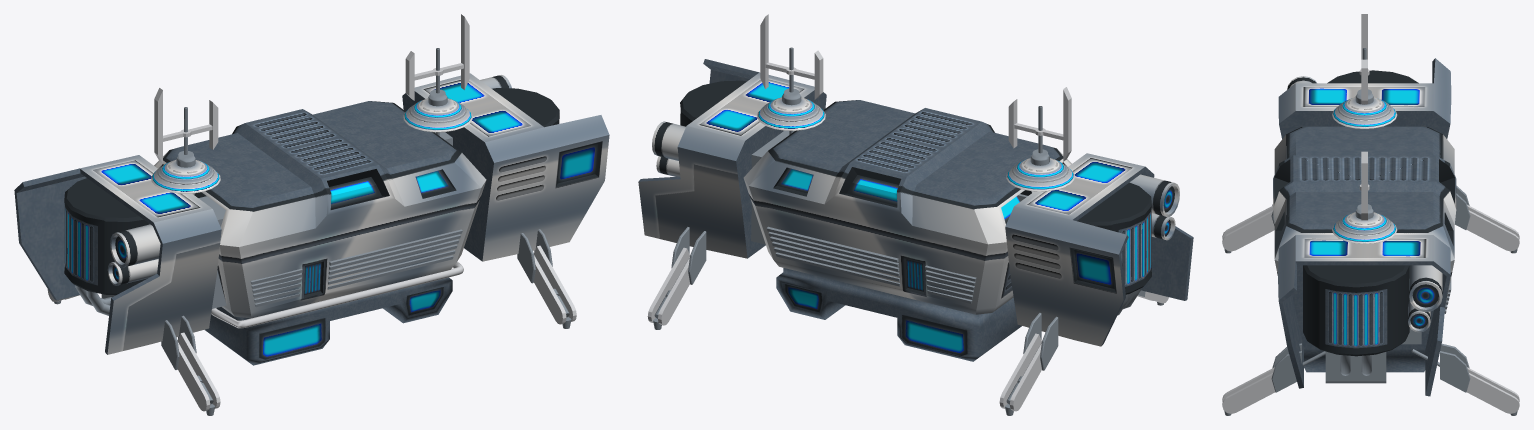
File: Transfer_Satellite2.fbx
3 views of the same model, side by side, from view 1: azimuth 30°, elevation 25°; view 2: azimuth 150°, elevation 25°; view 3: azimuth 270°, elevation 25° (orthographic). The views are drawn at different scales.
Parts seen in each view (by area): view 1: pCube8.002, pCube9.002 (×2), pCube2.001, polySurface6 (×2), polySurface1.001, pSphere1 (×2), extrudedSurface1, polySurface5, pCylinder4.002 (×2), pCylinder1, pCylinder3.002 (×2), polySurface2 (+4 smaller); view 2: pCube8.002, pCube9.002 (×2), pCube2.001, polySurface6 (×2), polySurface3, pSphere1 (×2), pCylinder1 (×2), polySurface5, pCylinder4.002 (×2), pCylinder3.002 (×2), polySurface4, pCylinder2.007 (×2) (+3 smaller); view 3: pCube8.002, pCube9.002 (×2), polySurface6 (×2), pCylinder3.002 (×4), polySurface5, pSphere1 (×2), pCylinder2.008 (×3), pCube10, pCylinder1, pCube2.001, pCube4 (×2), pCylinder10 (+1 smaller).
Part boxes in pixels (x1=…): pCube8.002: x1=154, y1=101, x2=486, y2=318; pCube9.002 (×2): x1=14, y1=73, x2=609, y2=354; pCube2.001: x1=204, y1=277, x2=452, y2=365; polySurface6 (×2): x1=64, y1=88, x2=559, y2=295; polySurface1.001: x1=327, y1=229, x2=462, y2=289; pSphere1 (×2): x1=151, y1=98, x2=472, y2=193; extrudedSurface1: x1=211, y1=261, x2=463, y2=328; polySurface5: x1=64, y1=205, x2=97, y2=285; pCylinder4.002 (×2): x1=177, y1=255, x2=566, y2=411; pCylinder1: x1=110, y1=224, x2=160, y2=267; pCylinder3.002 (×2): x1=177, y1=245, x2=576, y2=408; polySurface2: x1=250, y1=268, x2=302, y2=307; pCube8.002: x1=743, y1=100, x2=1071, y2=314; pCube9.002 (×2): x1=638, y1=59, x2=1193, y2=346; pCube2.001: x1=776, y1=268, x2=1021, y2=361; polySurface6 (×2): x1=680, y1=80, x2=1151, y2=294; polySurface3: x1=766, y1=226, x2=900, y2=286; pSphere1 (×2): x1=757, y1=97, x2=1074, y2=191; pCylinder1 (×2): x1=652, y1=121, x2=1179, y2=217; polySurface5: x1=1118, y1=208, x2=1151, y2=286; pCylinder4.002 (×2): x1=658, y1=257, x2=1041, y2=411; pCylinder3.002 (×2): x1=647, y1=247, x2=1041, y2=408; polySurface4: x1=925, y1=265, x2=976, y2=303; pCylinder2.007 (×2): x1=688, y1=231, x2=1058, y2=370; pCube8.002: x1=1273, y1=126, x2=1456, y2=307; pCube9.002 (×2): x1=1278, y1=58, x2=1451, y2=396; polySurface6 (×2): x1=1303, y1=70, x2=1418, y2=356; pCylinder3.002 (×4): x1=1222, y1=210, x2=1519, y2=413; polySurface5: x1=1325, y1=289, x2=1387, y2=348; pSphere1 (×2): x1=1332, y1=97, x2=1397, y2=243; pCylinder2.008 (×3): x1=1271, y1=193, x2=1470, y2=392; pCube10: x1=1325, y1=351, x2=1386, y2=383; pCylinder1: x1=1409, y1=265, x2=1442, y2=312; pCube2.001: x1=1304, y1=349, x2=1425, y2=372; pCube4 (×2): x1=1361, y1=14, x2=1367, y2=220; pCylinder10: x1=1408, y1=300, x2=1430, y2=332.
Bounding box in the file's own units: 17.89 × 9.05 × 9.8.
